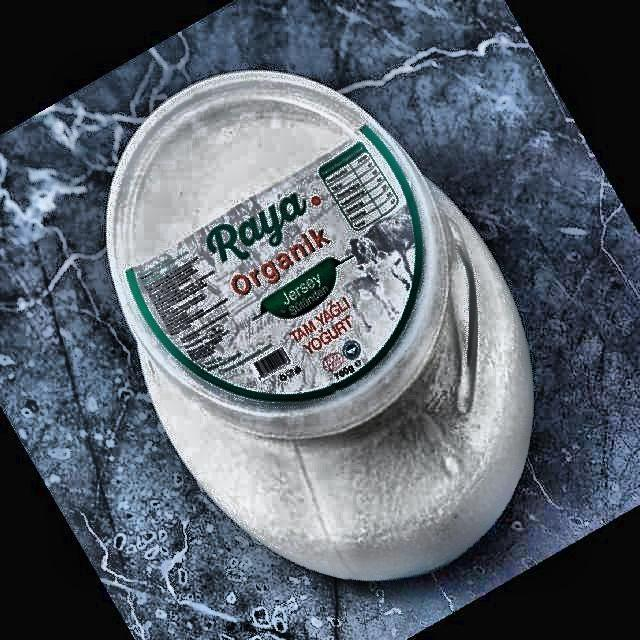plastic: (109, 71, 532, 580)
